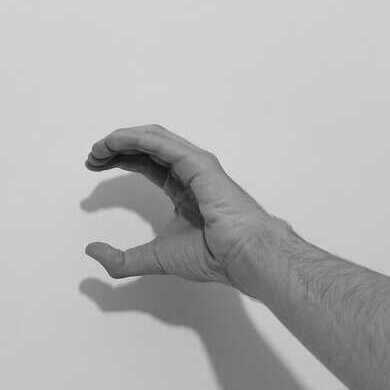C: (81, 122, 292, 296)
